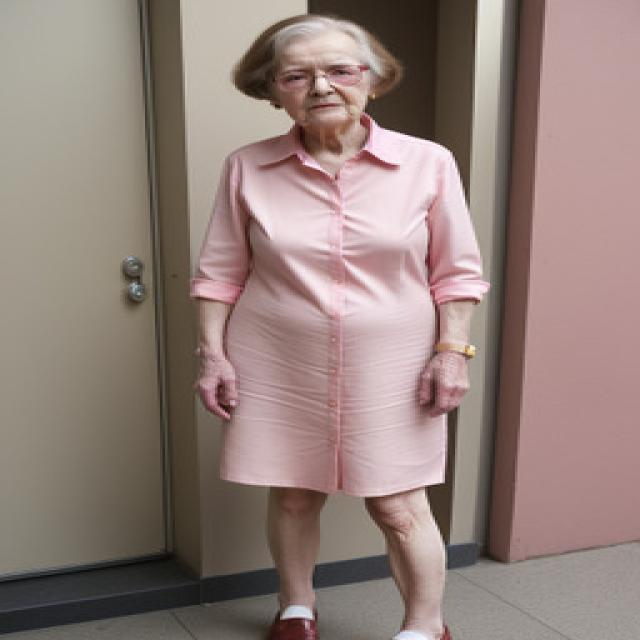Ai human 2: (157, 9, 531, 640)
